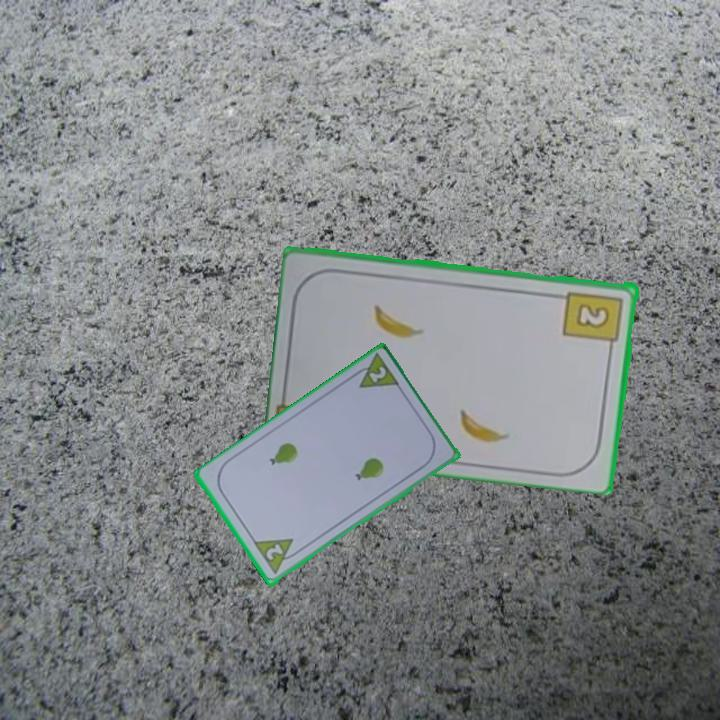2b: (561, 287, 626, 354)
2p: (250, 535, 303, 578), (347, 351, 402, 392)
